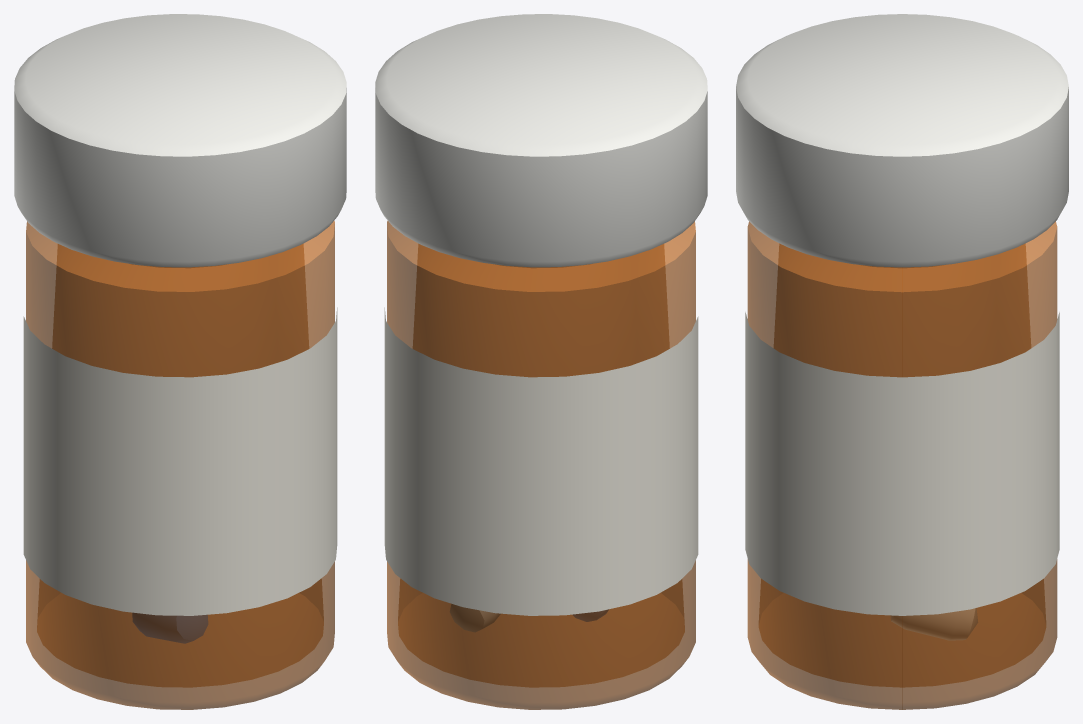
Rendered from pill_bottle.glb.
3 renders of one model, left to right at view 1: azimuth 30°, elevation 25°; view 2: azimuth 150°, elevation 25°; view 3: azimuth 270°, elevation 25°, orthographic.
Parts seen in each view (by area): view 1: pill_bottle; view 2: pill_bottle; view 3: pill_bottle.
Boxes of the visible parts, box(x1,y1,x2,y2) form: pill_bottle: box(14, 14, 346, 709); pill_bottle: box(375, 14, 707, 709); pill_bottle: box(736, 14, 1068, 709).
Size of the model in its own units: 0.0478 by 0.09 by 0.0478.
